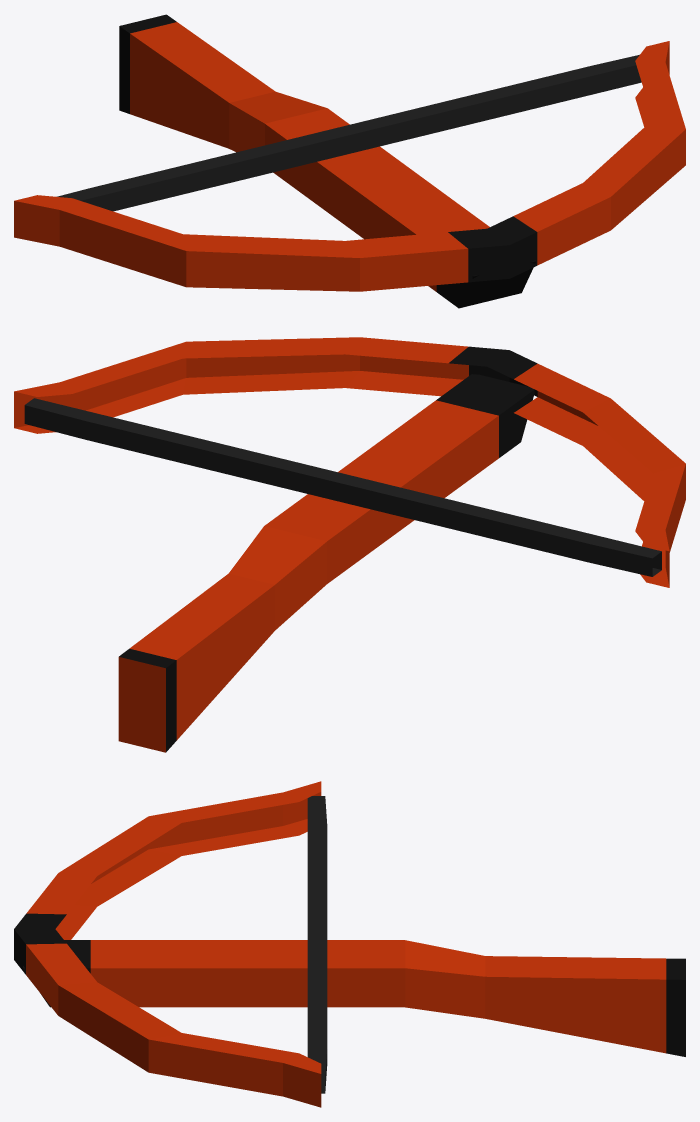
Rendered from crossbow.obj.
3 views of the same model, one above another, from view 1: azimuth 30°, elevation 25°; view 2: azimuth 150°, elevation 25°; view 3: azimuth 270°, elevation 25° (orthographic). The views are drawn at different scales.
Parts seen in each view (by area): view 1: crossbow; view 2: crossbow; view 3: crossbow.
Part boxes in pixels (x1,y1,x2,y2): crossbow: (14, 14, 685, 308); crossbow: (14, 337, 685, 752); crossbow: (14, 781, 685, 1107).
Bounding box in the file's own units: 0.3905 × 0.0739 × 0.3787.
